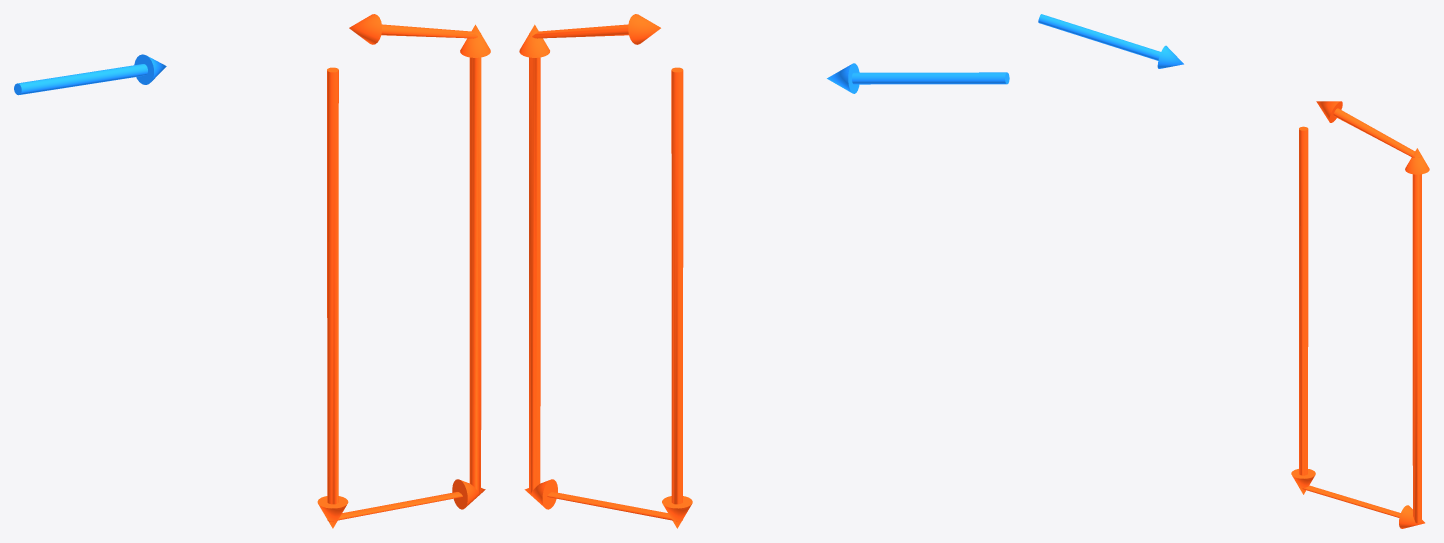
The model's file is precipitation_tank_agitator_flow.glb.
3 renders of one model, left to right at view 1: azimuth 30°, elevation 25°; view 2: azimuth 150°, elevation 25°; view 3: azimuth 330°, elevation 25°, orthographic. The views are drawn at different scales.
Visible parts, largest first — view 1: circulation, pregnant_liquor; view 2: circulation, pregnant_liquor; view 3: circulation, pregnant_liquor.
Part boxes in pixels (x1,y1,x2,y2): circulation: [317, 14, 490, 528]; pregnant_liquor: [14, 54, 166, 95]; circulation: [519, 14, 692, 528]; pregnant_liquor: [827, 63, 1009, 93]; circulation: [1291, 101, 1429, 528]; pregnant_liquor: [1038, 14, 1183, 68].
Size of the model in its own units: 1.86 by 2 by 0.1613.
